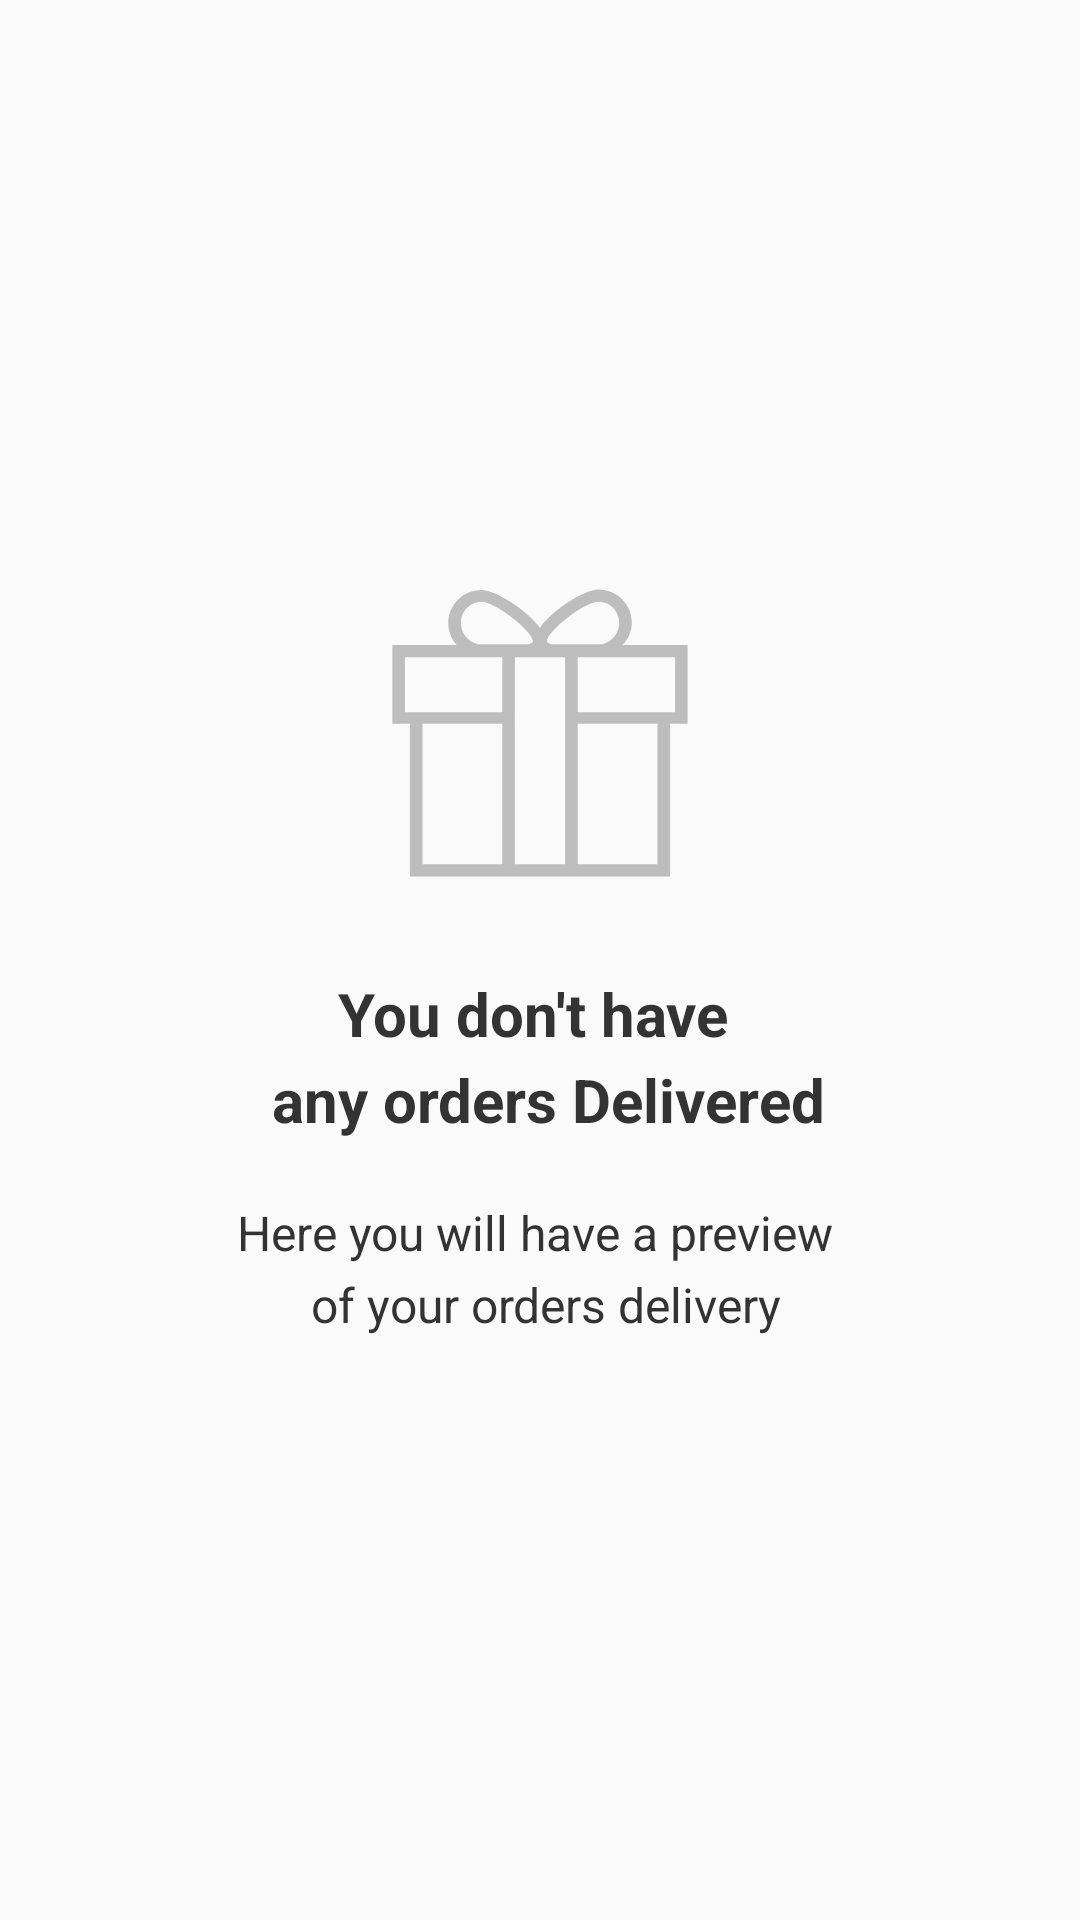

Named icons in this screenshot (1080×1920) and their bounding boxes, {"left": x1, "top": y1, "right": x2, "bottom": y2}:
order delivery empty: {"left": 392, "top": 589, "right": 688, "bottom": 877}
